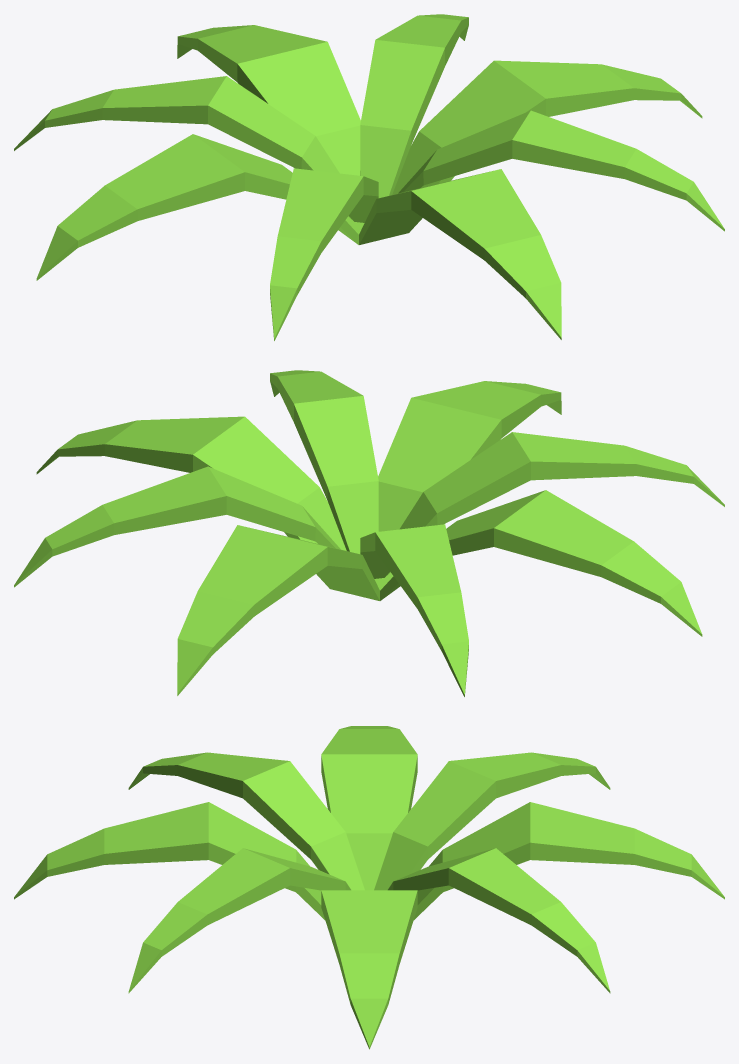
File: 003_Foliage_Plant_001.fbx
3 renders of one model, top to bottom at view 1: azimuth 30°, elevation 25°; view 2: azimuth 150°, elevation 25°; view 3: azimuth 270°, elevation 25°, orthographic. The views are drawn at different scales.
Visible parts, largest first — view 1: Foliage Plant 001; view 2: Foliage Plant 001; view 3: Foliage Plant 001.
Boxes of the visible parts, x1,y1,x2,y2 form: Foliage Plant 001: [14, 14, 724, 340]; Foliage Plant 001: [14, 370, 724, 696]; Foliage Plant 001: [14, 726, 724, 1049].
Size of the model in its own units: 137 by 23.67 by 137.
